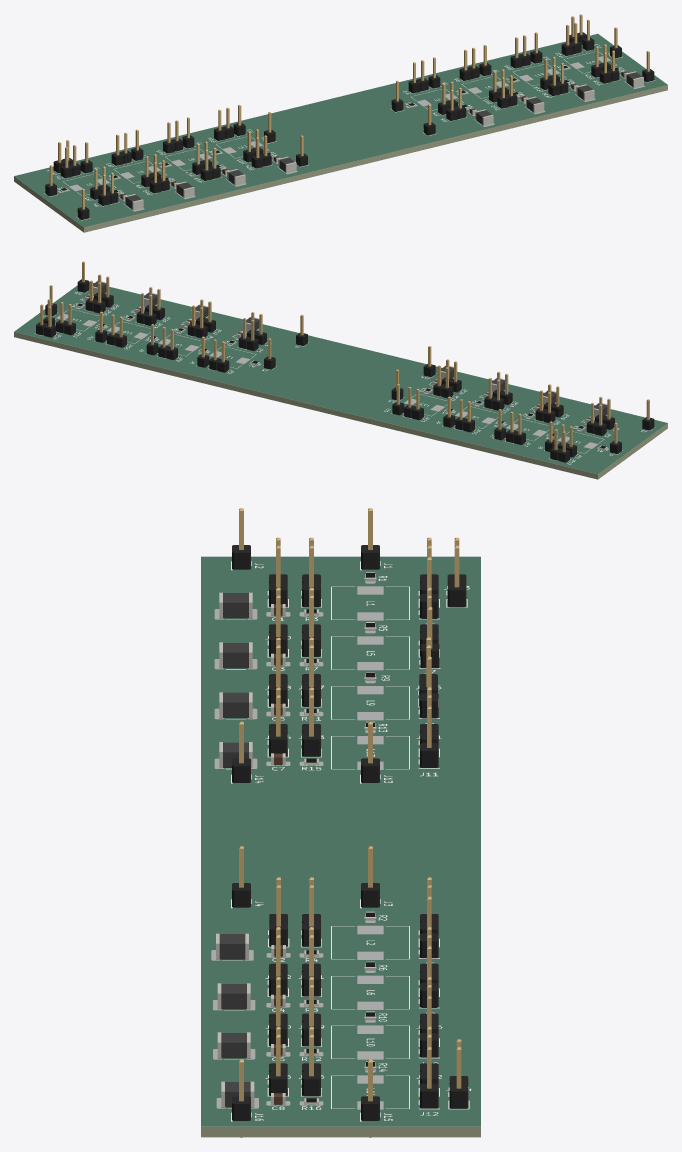
Rendered from board-view.glb.
3 views of the same model, one above another, from view 1: azimuth 30°, elevation 25°; view 2: azimuth 150°, elevation 25°; view 3: azimuth 270°, elevation 25° (orthographic). The views are drawn at different scales.
Parts seen in each view (by area): view 1: =>[0:1:1:14], =>[0:1:1:5] (×16), =>[0:1:1:16], =>[0:1:1:13], =>[0:1:1:12]; view 2: =>[0:1:1:14], =>[0:1:1:5] (×17), =>[0:1:1:16], =>[0:1:1:13], =>[0:1:1:12]; view 3: =>[0:1:1:14], =>[0:1:1:12], =>[0:1:1:13], =>[0:1:1:16].
Boxes of the visible parts, left/top/right/bottom form: =>[0:1:1:14]: left=14, top=33, right=667, bottom=227; =>[0:1:1:5] (×16): left=60, top=22, right=619, bottom=205; =>[0:1:1:16]: left=14, top=85, right=667, bottom=232; =>[0:1:1:13]: left=44, top=44, right=654, bottom=220; =>[0:1:1:12]: left=58, top=56, right=644, bottom=211; =>[0:1:1:14]: left=14, top=282, right=667, bottom=474; =>[0:1:1:5] (×17): left=36, top=280, right=606, bottom=462; =>[0:1:1:16]: left=14, top=332, right=667, bottom=479; =>[0:1:1:13]: left=35, top=289, right=654, bottom=464; =>[0:1:1:12]: left=56, top=295, right=608, bottom=450; =>[0:1:1:14]: left=201, top=556, right=480, bottom=1126; =>[0:1:1:12]: left=211, top=574, right=383, bottom=1109; =>[0:1:1:13]: left=222, top=561, right=471, bottom=1121; =>[0:1:1:16]: left=201, top=612, right=480, bottom=1136.
Bounding box in the file's own units: 0.183 × 0.0115 × 0.038.
